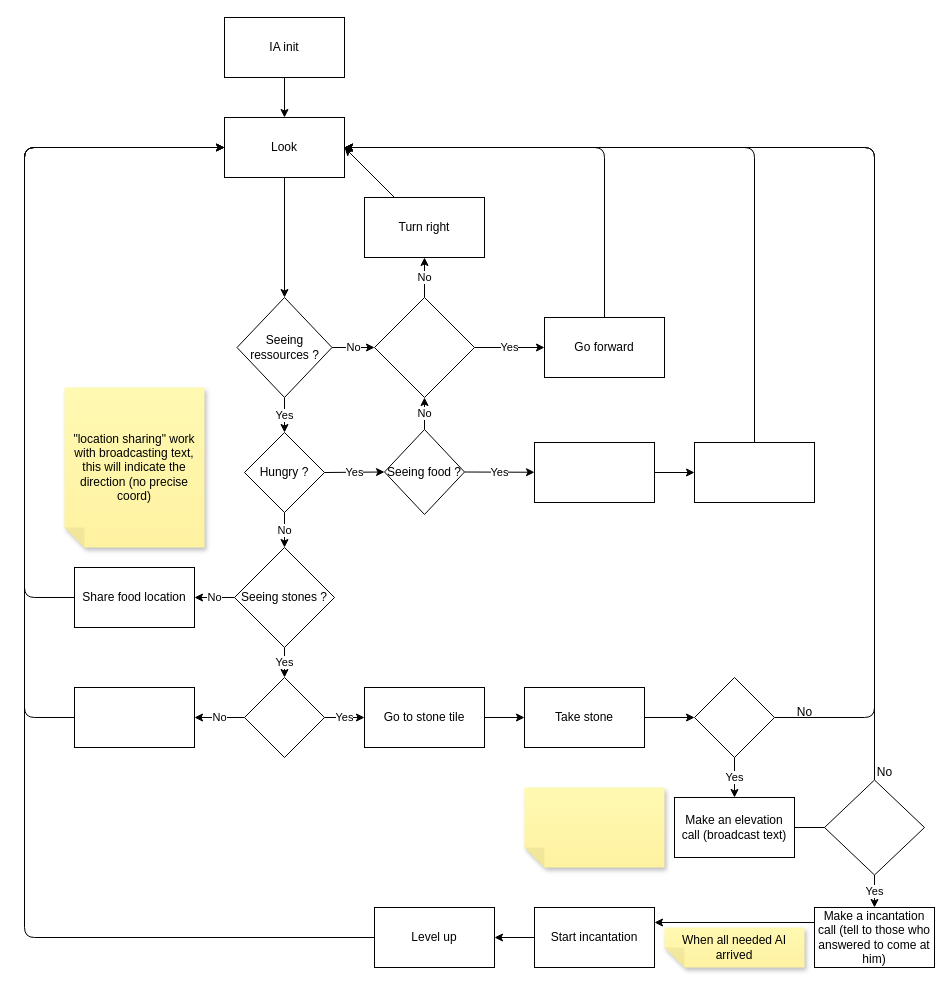
Image size: 952x992. Some labels were removed from this diagram. The shapes that lost their labels are listed below. From the top down, each one's centre as x and y in pixels, then its label:
At point 424,347: "Already made a full turn ?".
At point 594,472: "Go to food tile".
At point 754,472: "Take food".
At point 134,717: "Share stone location".
At point 284,717: "Need this stone ?".
At point 734,717: "Can elevate ?".
At point 595,828: "Wait for a certain number of answers (depend of level) during x time.".
At point 874,827: "Get enough responses".
